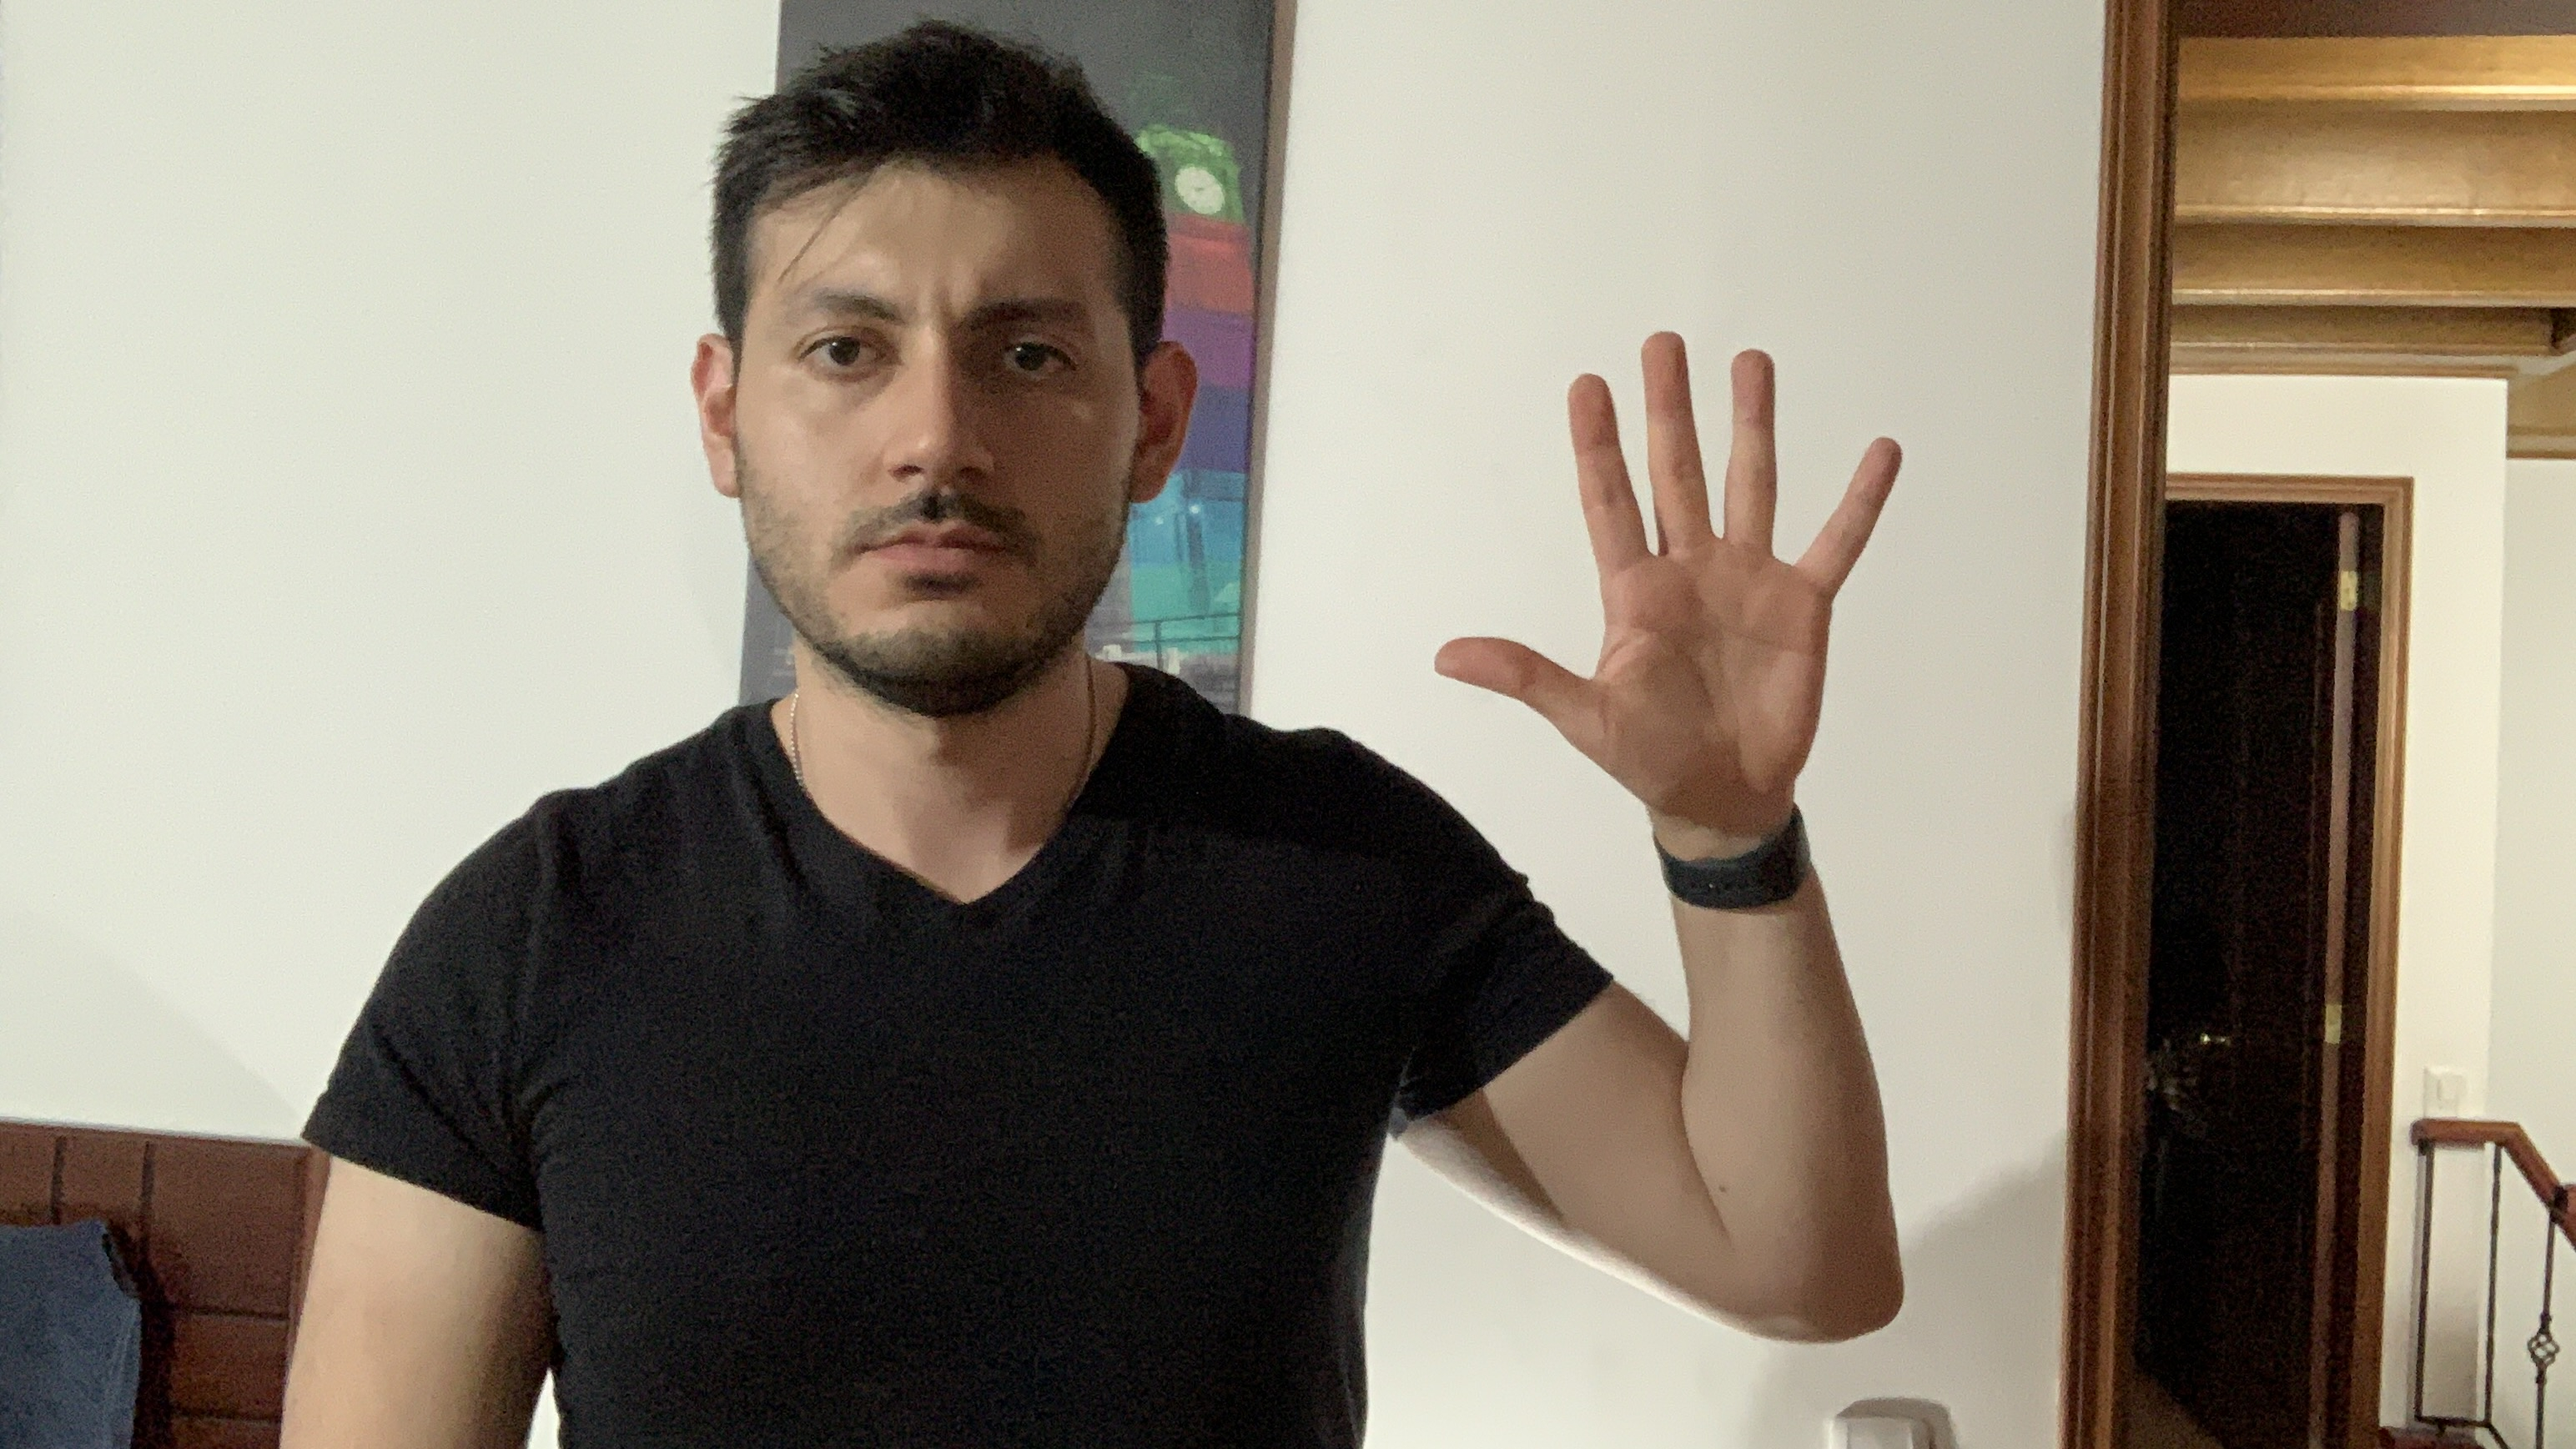Hello: (1426, 306, 1936, 844)
